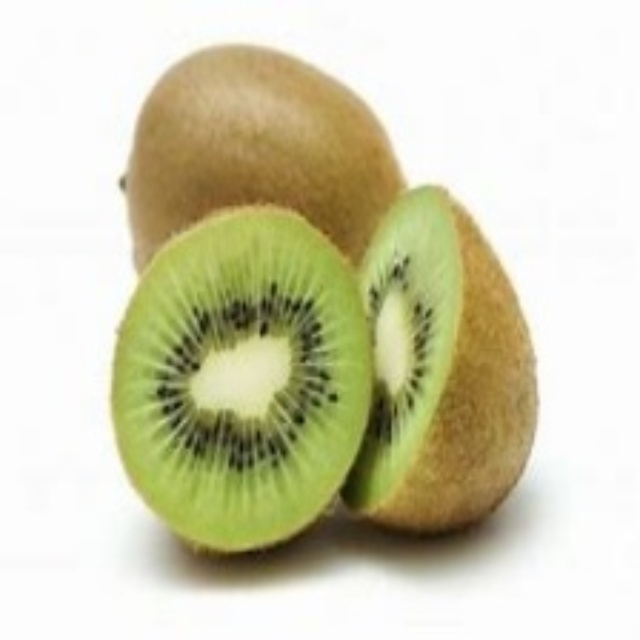kiwi: (109, 209, 372, 563), (337, 184, 542, 527), (125, 42, 406, 276)
